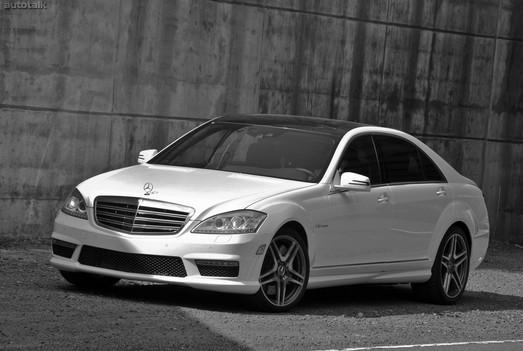car: (46, 109, 492, 317)
